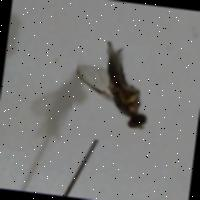Oriental-fruit-fly: (68, 38, 166, 147)
